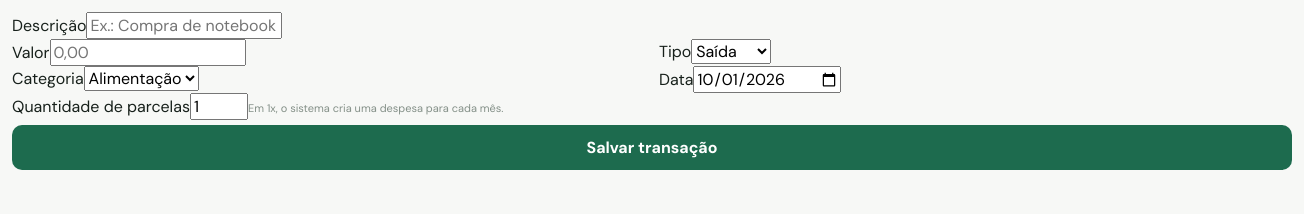
Test case: TransactionForm — nova transação › mostra erro e não envia quando a data está vazia
This screenshot has width=1304, height=214.
Step 1. Type "Mercado" into the field labelled "Descrição" → coordinates (184, 26), box [86,12,282,39]
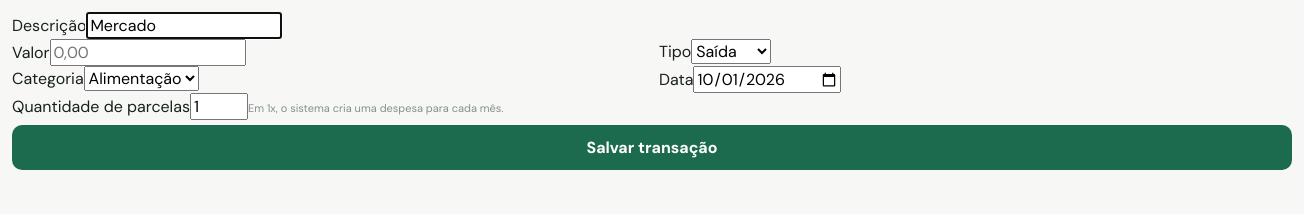
Step 2. Type "80" into the number field labelled "Valor" → coordinates (148, 52), box [50,39,246,66]
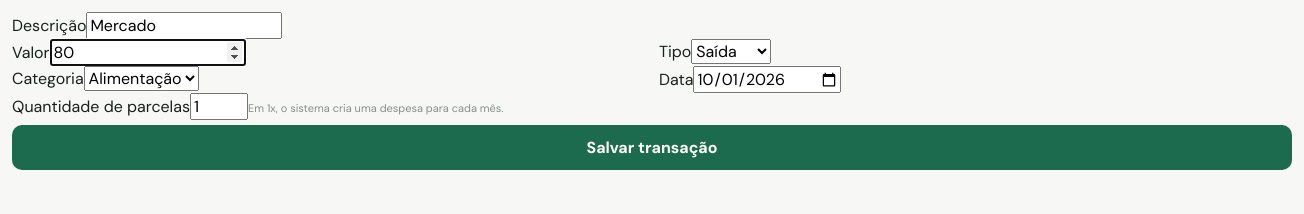
Step 3. Clear the date field labelled "Data" → coordinates (768, 80), box [694,66,842,93]
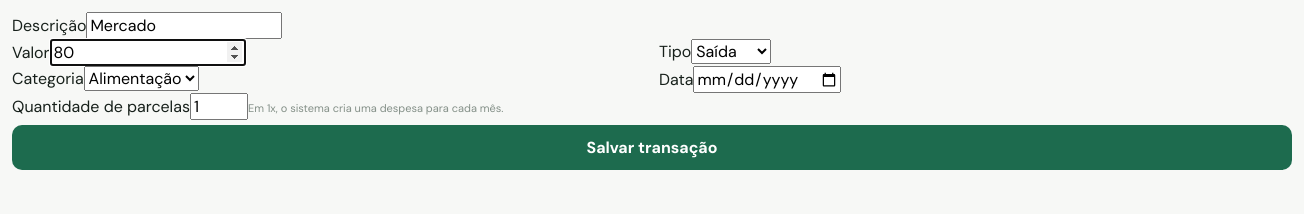
Step 4. Click the button "Salvar transação" → coordinates (652, 148), box [12,125,1292,170]
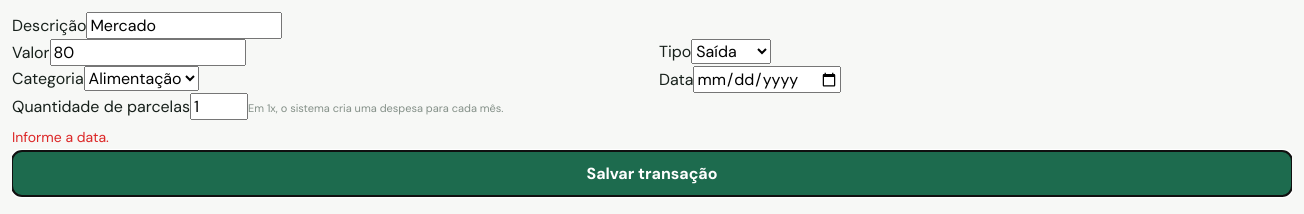
Expected: the message reads "Informe a data.", [12,128,109,146]
